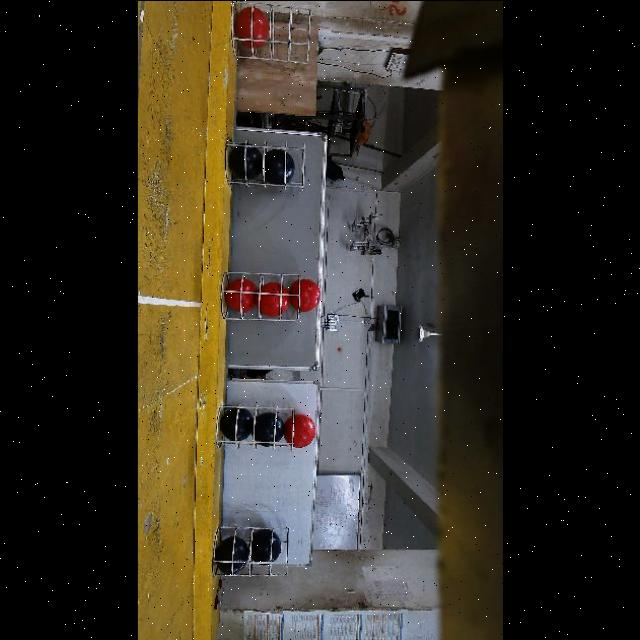P: (215, 535, 250, 573), (230, 139, 263, 179), (265, 148, 296, 184), (221, 407, 254, 440), (255, 411, 286, 445), (251, 528, 282, 561)
R: (236, 5, 269, 48), (284, 412, 316, 446), (260, 281, 291, 316), (226, 278, 258, 311), (291, 278, 321, 311)
S: (218, 0, 310, 66), (218, 264, 304, 326), (228, 132, 314, 194), (216, 520, 294, 574), (214, 401, 296, 452)
